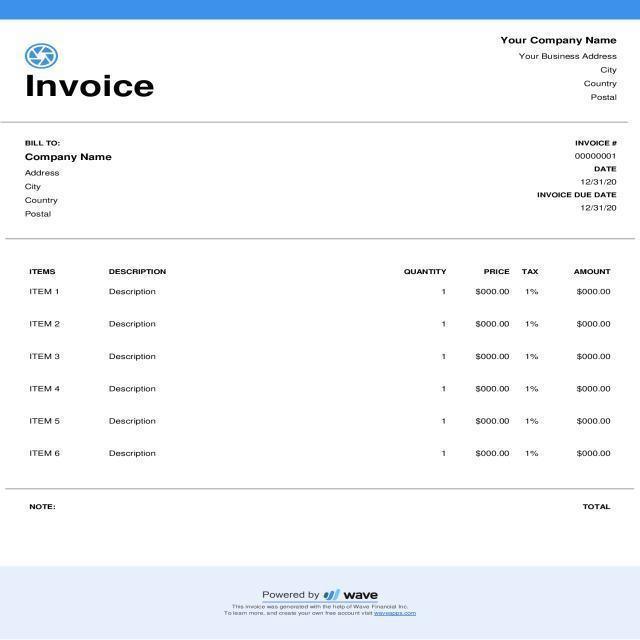paragraph: (16, 131, 132, 237), (496, 34, 628, 108), (524, 133, 624, 215), (220, 583, 422, 619), (18, 68, 167, 109), (28, 503, 63, 512), (580, 503, 616, 511)
table: (16, 253, 632, 477)
